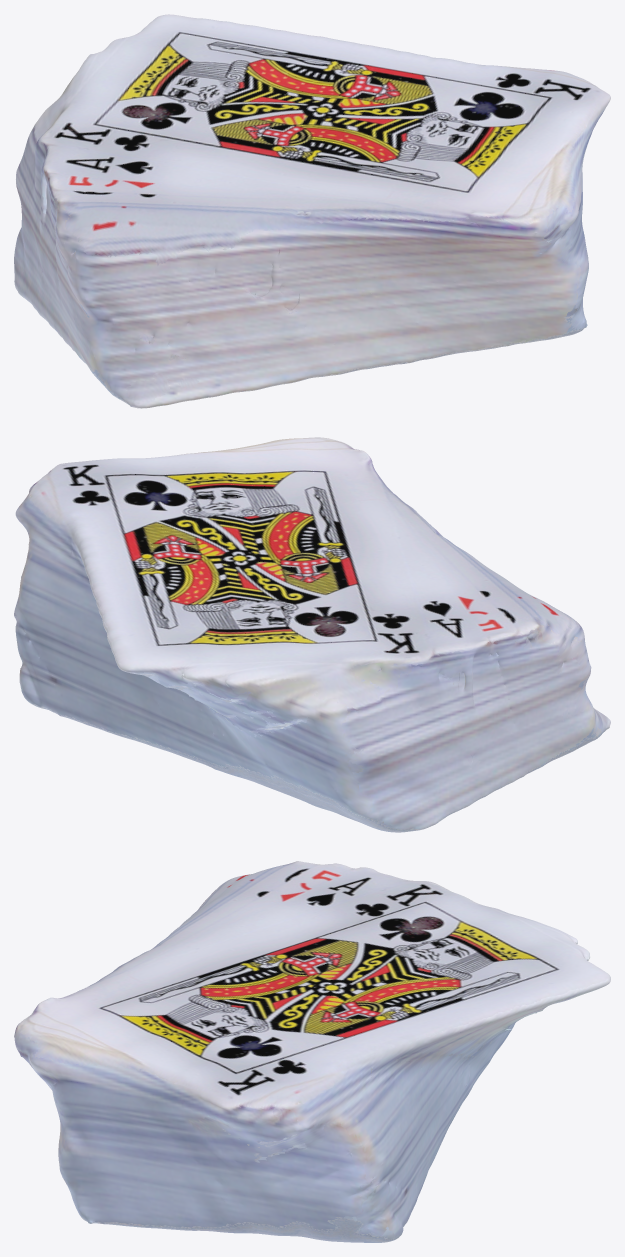
Rendered from deck_of_cards.glb.
3 renders of one model, top to bottom at view 1: azimuth 30°, elevation 25°; view 2: azimuth 150°, elevation 25°; view 3: azimuth 270°, elevation 25°, orthographic.
Visible parts, largest first — view 1: Object_2, Object_3, Object_5, Object_4; view 2: Object_2, Object_3, Object_5; view 3: Object_2, Object_3, Object_5.
Boxes of the visible parts, x1=… form: Object_2: x1=14, y1=14, x2=610, y2=408; Object_3: x1=14, y1=124, x2=588, y2=406; Object_5: x1=16, y1=137, x2=588, y2=407; Object_4: x1=117, y1=327, x2=585, y2=408; Object_2: x1=14, y1=437, x2=610, y2=828; Object_3: x1=18, y1=544, x2=610, y2=832; Object_5: x1=15, y1=568, x2=609, y2=832; Object_2: x1=14, y1=861, x2=610, y2=1237; Object_3: x1=18, y1=885, x2=542, y2=1242; Object_5: x1=46, y1=1012, x2=536, y2=1239.
Size of the model in its own units: 106 by 32.66 by 102.
Materials: 1 (1 with a texture image).
